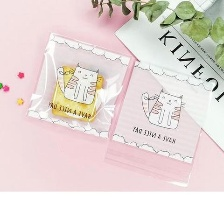snack: (100, 55, 220, 189), (20, 27, 135, 145)
